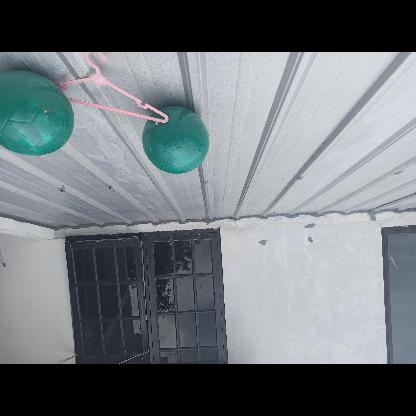green_ball: (144, 108, 212, 176)
